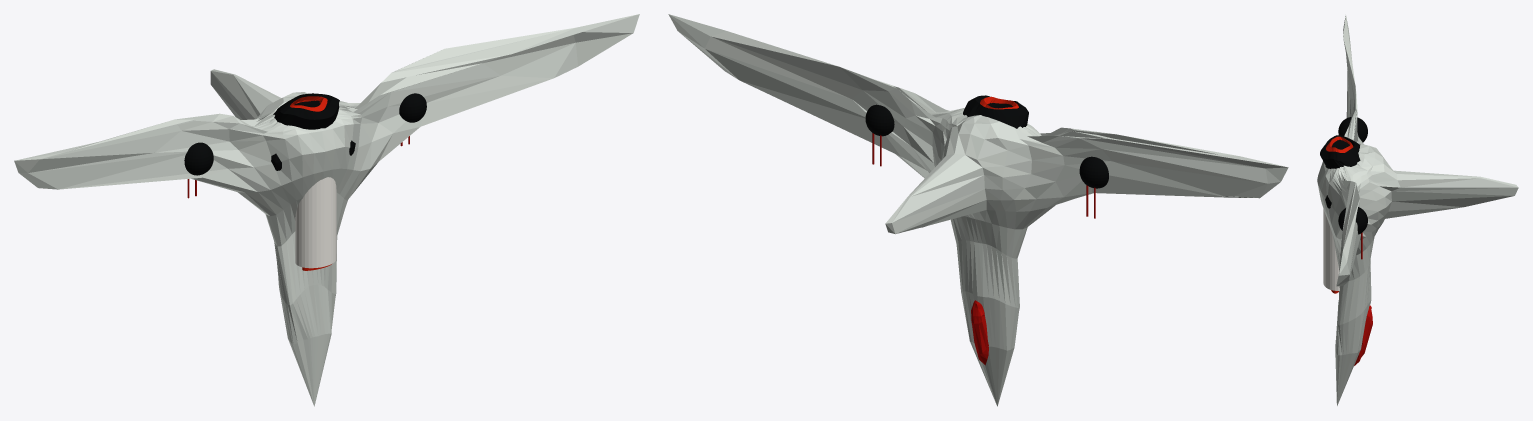
The model's file is phantom.obj.
3 renders of one model, left to right at view 1: azimuth 30°, elevation 25°; view 2: azimuth 150°, elevation 25°; view 3: azimuth 270°, elevation 25°, orthographic. The views are drawn at different scales.
Parts seen in each view (by area): view 1: Sphere, Cylinder_Cylinder.002, Sphere.002_Sphere.003, Sphere.005_Sphere.001, Sphere.004_Sphere.006; view 2: Sphere, Sphere.002_Sphere.003, Sphere.005_Sphere.001, Sphere.004_Sphere.006, Sphere.001_Sphere.002; view 3: Sphere, Sphere.002_Sphere.003, Cylinder_Cylinder.002, Sphere.004_Sphere.006, Sphere.005_Sphere.001, Sphere.001_Sphere.002, Sphere.003_Sphere.004.
Part boxes in pixels (bbox=[...]): Sphere: bbox=[14, 14, 639, 406]; Cylinder_Cylinder.002: bbox=[295, 177, 336, 268]; Sphere.002_Sphere.003: bbox=[271, 93, 355, 170]; Sphere.005_Sphere.001: bbox=[184, 142, 213, 198]; Sphere.004_Sphere.006: bbox=[399, 93, 426, 146]; Sphere: bbox=[668, 14, 1288, 406]; Sphere.002_Sphere.003: bbox=[963, 95, 1028, 128]; Sphere.005_Sphere.001: bbox=[1079, 156, 1108, 218]; Sphere.004_Sphere.006: bbox=[865, 104, 894, 166]; Sphere.001_Sphere.002: bbox=[971, 300, 988, 365]; Sphere: bbox=[1317, 14, 1518, 405]; Sphere.002_Sphere.003: bbox=[1320, 135, 1360, 208]; Cylinder_Cylinder.002: bbox=[1323, 209, 1339, 290]; Sphere.004_Sphere.006: bbox=[1338, 207, 1367, 259]; Sphere.005_Sphere.001: bbox=[1338, 117, 1367, 142]; Sphere.001_Sphere.002: bbox=[1354, 305, 1372, 365]; Sphere.003_Sphere.004: bbox=[1326, 136, 1353, 152].
Size of the model in its own units: 10.2 by 4.93 by 3.34.
